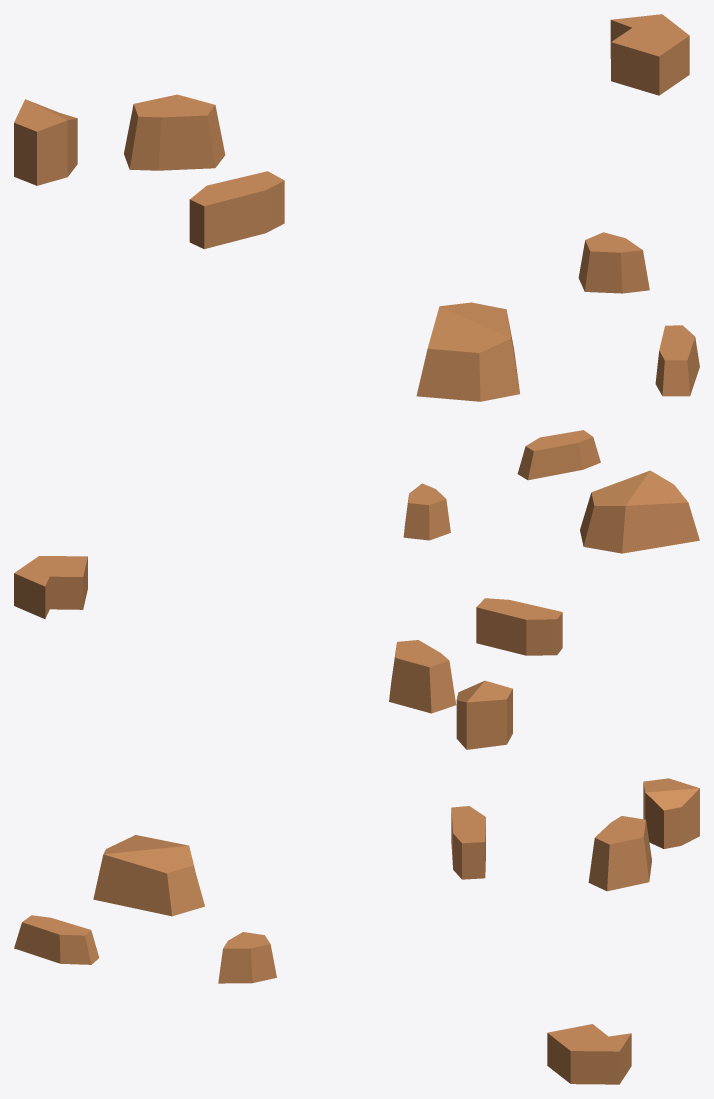
The model's file is SandRocks18_LOD1.fbx.
3 renders of one model, top to bottom at view 1: azimuth 30°, elevation 25°; view 2: azimuth 150°, elevation 25°; view 3: azimuth 270°, elevation 25°, orthographic. The views are drawn at different scales.
Parts seen in each view (by area): view 1: 18; view 2: 18; view 3: 18.
Part boxes in pixels (<box>): 18: <box>14,14,699,401</box>; 18: <box>14,430,699,749</box>; 18: <box>14,778,699,1084</box>.
Bounding box in the file's own units: 89.82 × 9.07 × 102.
